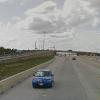Car: (23, 64, 70, 88)
